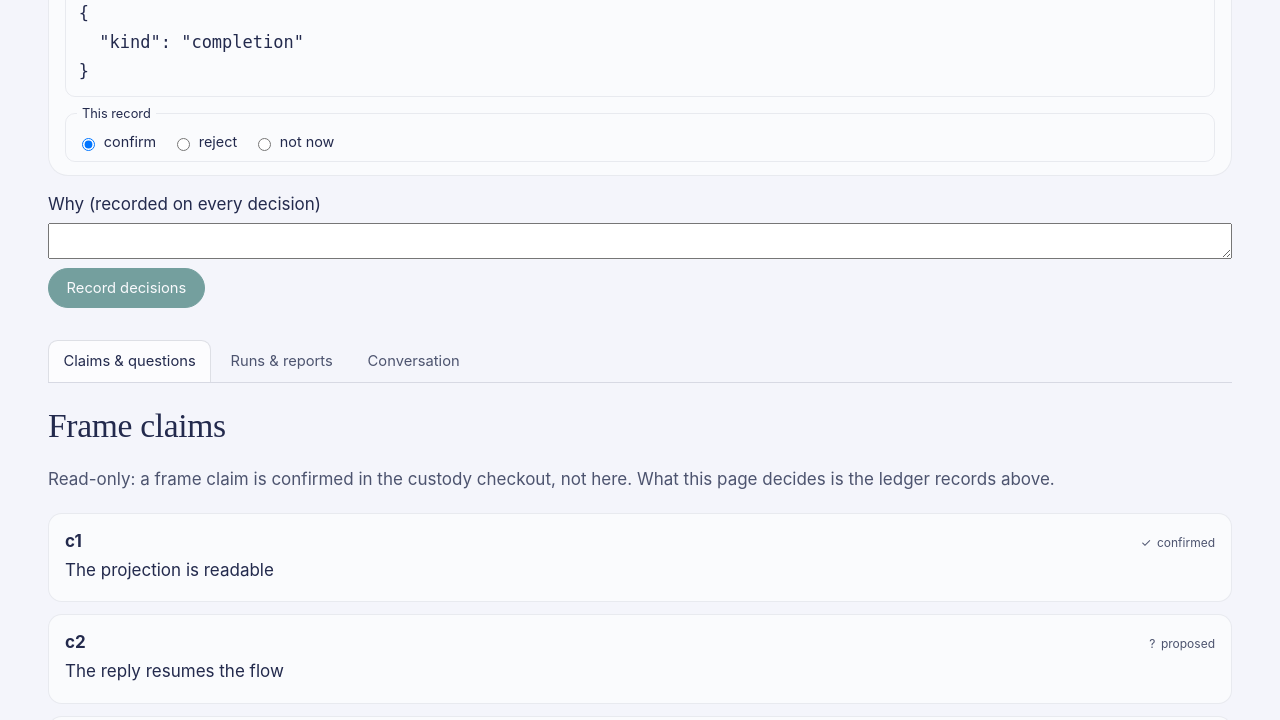
Test case: TicketView › shows the merged PR and freezes every reply control
(page scrolled)
Click the tab "Conversation" at (414, 361), box [352,340,475,382]
(page scrolled)
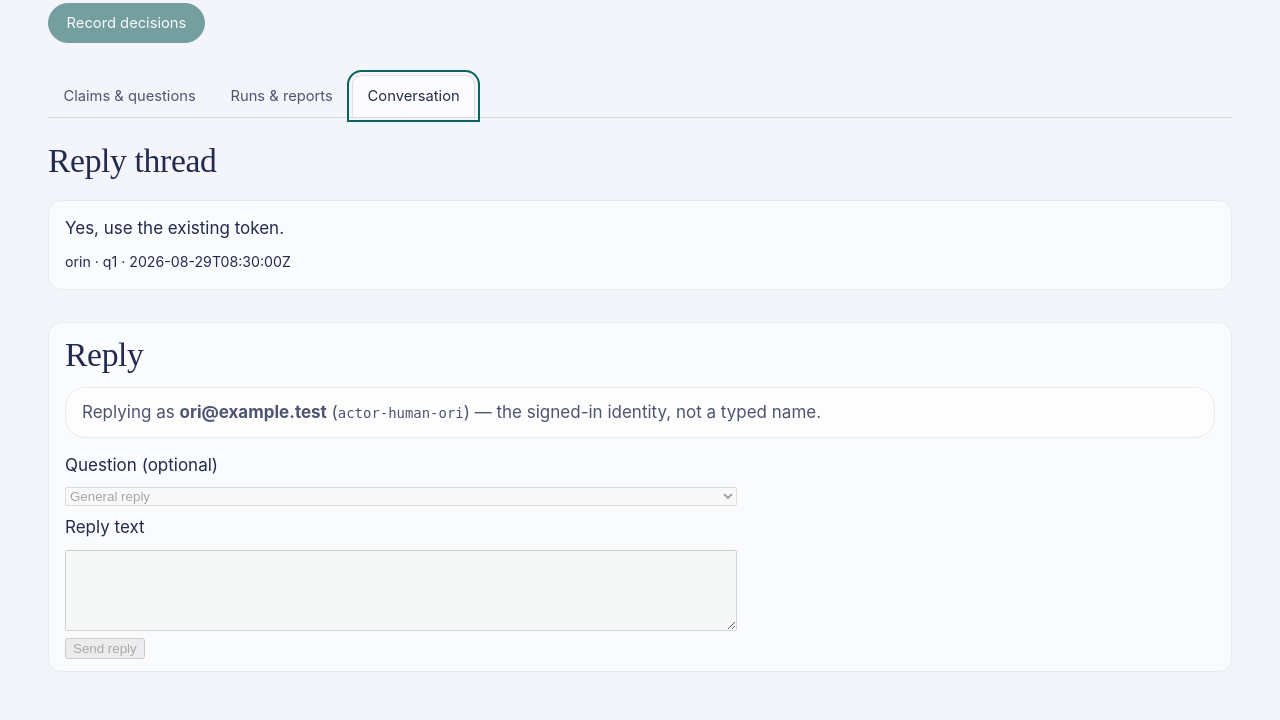
Result: the dropdown labelled "Question (optional)" is disabled at [65,487,737,506]
Result: the text box labelled "Reply text" is disabled at [65,550,737,630]
Result: the button "Send reply" is disabled at [65,638,145,659]
